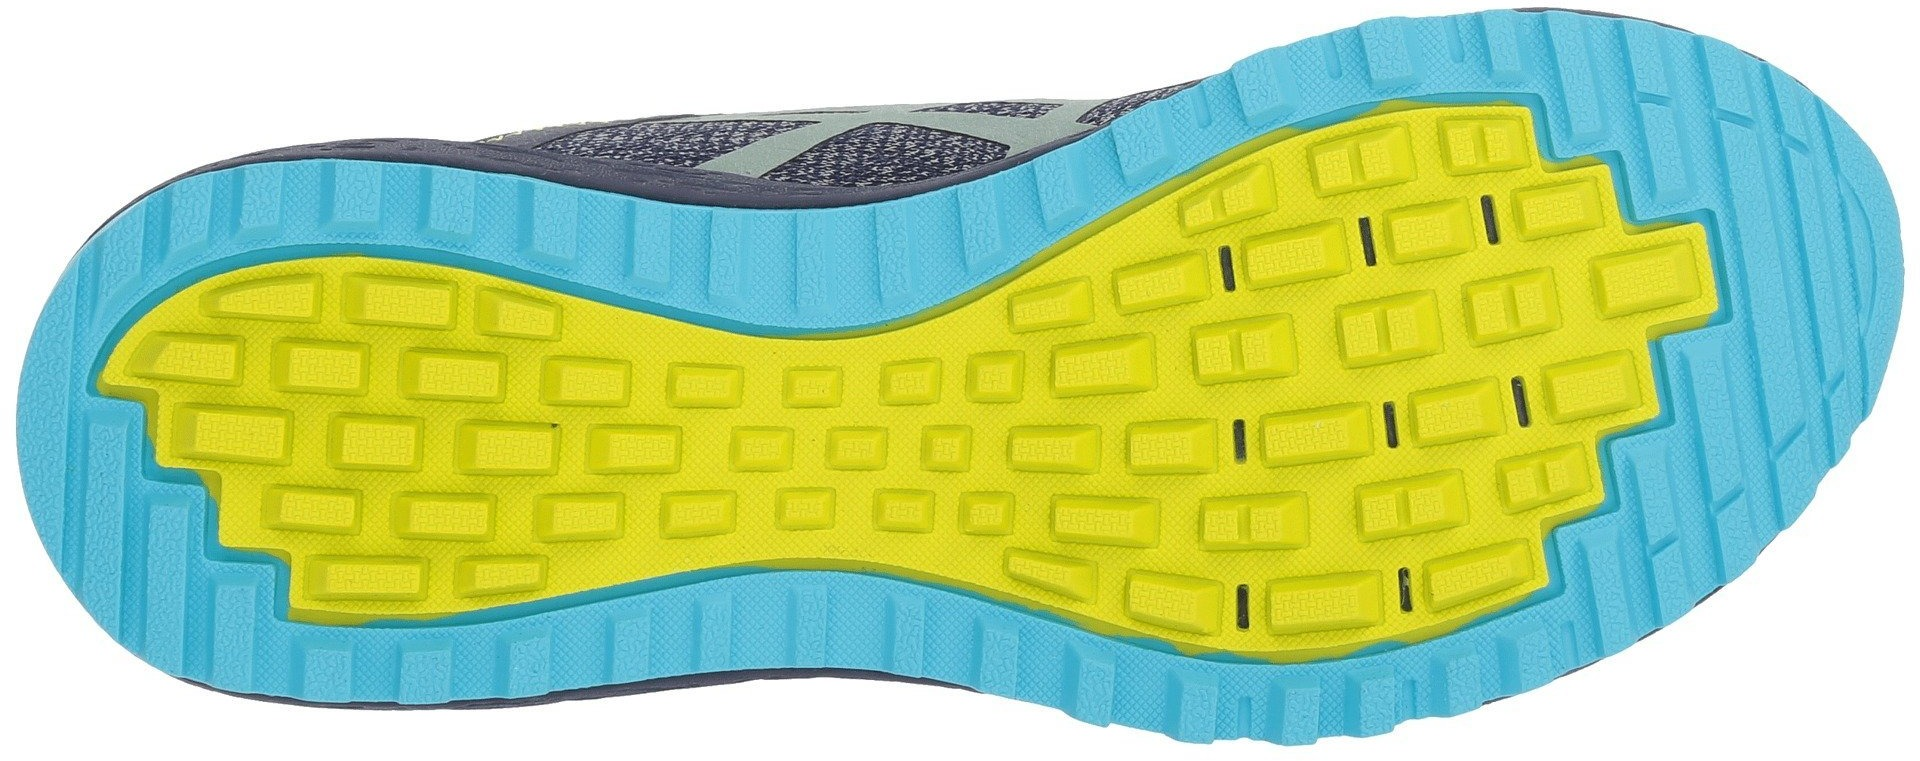exclude: (173, 667, 983, 760)
quad: (1114, 142, 1602, 607), (857, 342, 1097, 574), (196, 282, 421, 502), (427, 339, 653, 543), (654, 355, 849, 556), (47, 425, 208, 598), (1719, 176, 1873, 346)
